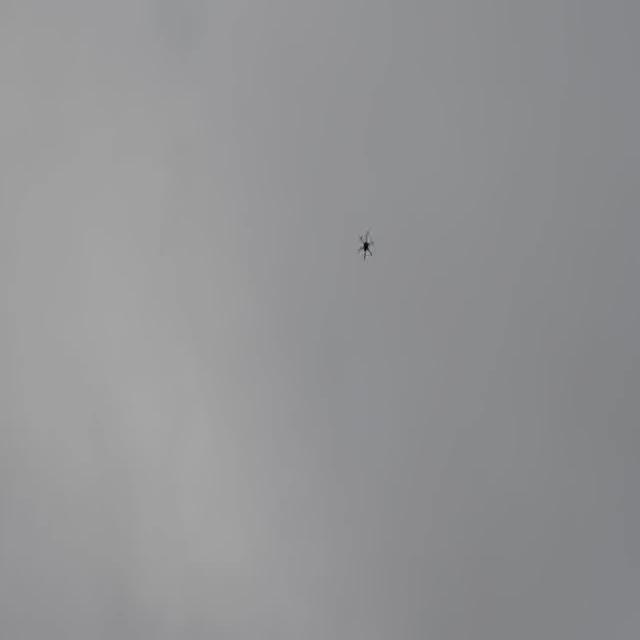drone: (356, 226, 374, 258)
